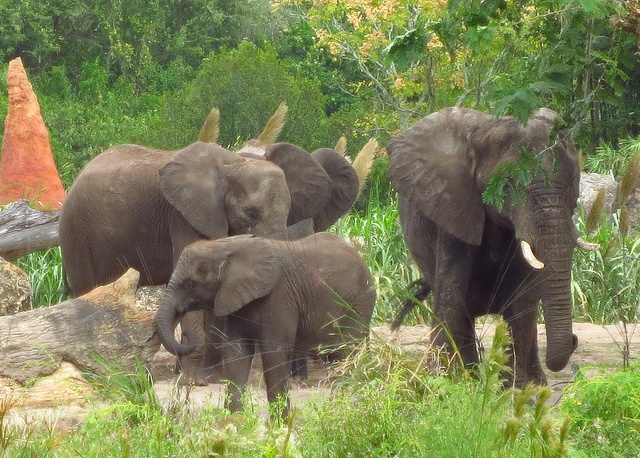elephant: (389, 106, 583, 386), (154, 231, 378, 429), (60, 140, 336, 298)
